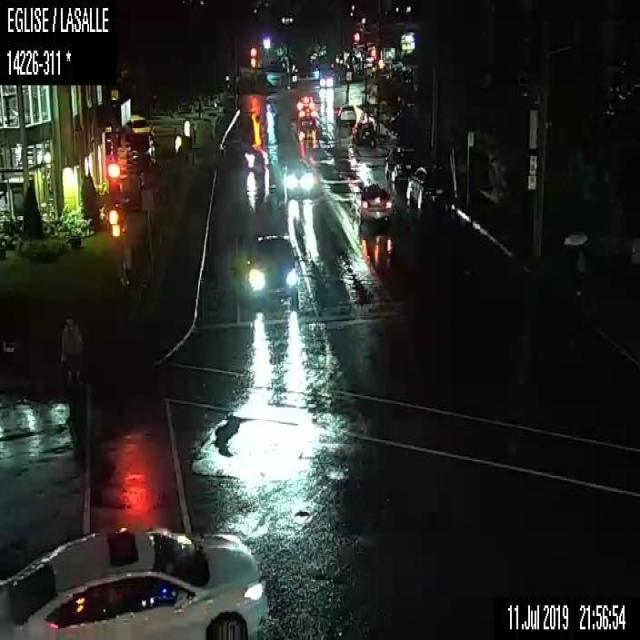pedestrian: (58, 312, 83, 383), (563, 230, 589, 298), (117, 232, 132, 288)
vehicle: (0, 520, 271, 639), (245, 232, 299, 303), (405, 163, 454, 208), (349, 180, 394, 220), (383, 146, 422, 186), (276, 156, 314, 195), (220, 138, 267, 169), (294, 118, 319, 144), (353, 120, 377, 147), (129, 112, 154, 137), (333, 102, 357, 126), (318, 68, 336, 85), (299, 105, 320, 119), (296, 95, 314, 108)
